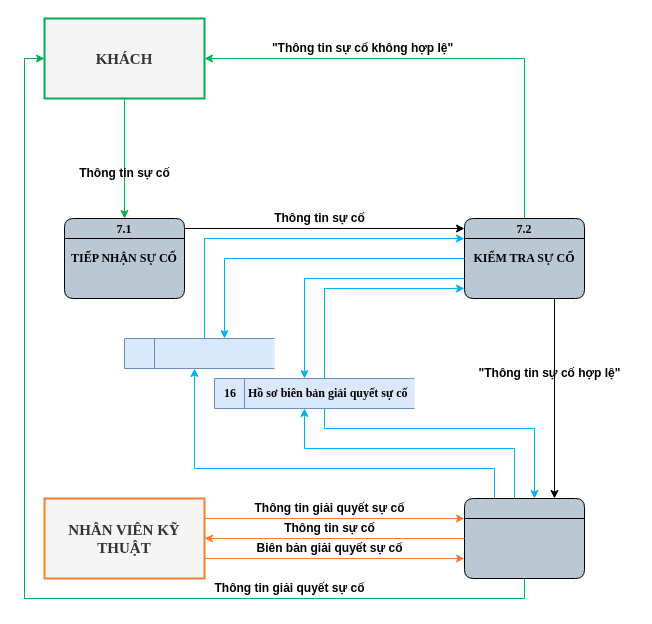
Some shapes in this 652 by 624 pixel diagram are drawn without their labels. The shapes that lost their labels are listed below. From the top down, each one's centre as x and y in pixels, then its label:
At (x=199, y=353): "15 Hồ sơ báo cáo sự cố".
At (x=524, y=538): "7.3 XỬ LÝ SỰ CỐ".
